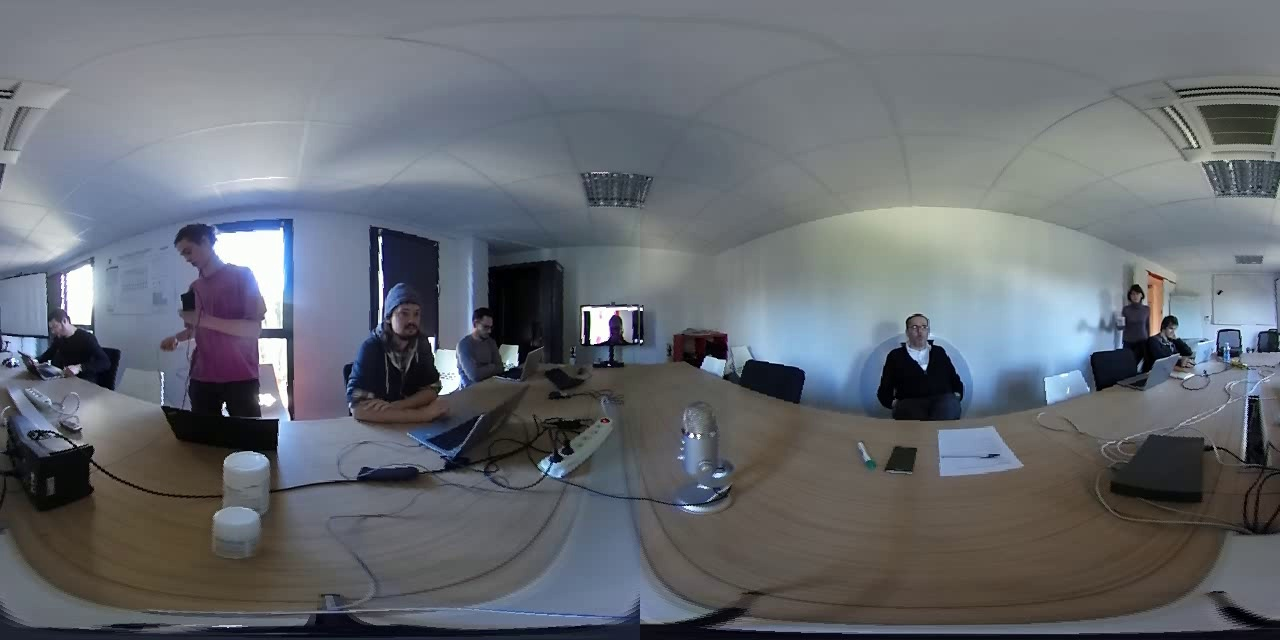person: (156, 212, 286, 407), (337, 273, 449, 407), (862, 303, 977, 419), (19, 294, 101, 376), (458, 300, 511, 377), (1107, 276, 1155, 352), (1149, 312, 1197, 365), (585, 306, 644, 344)
